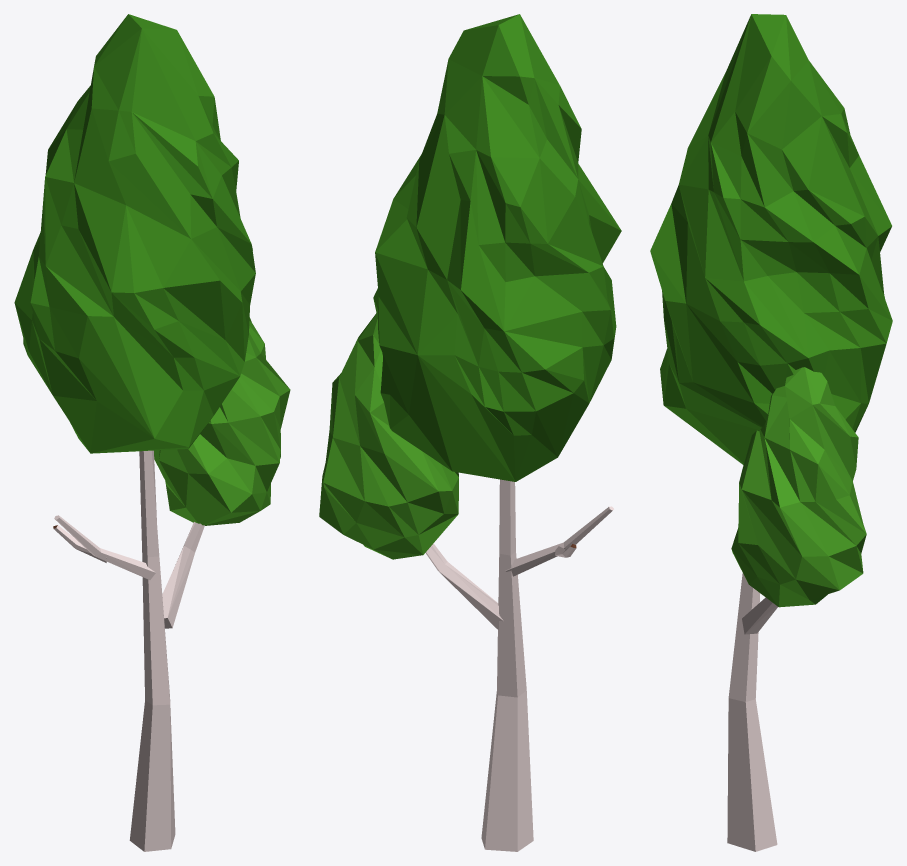
Rendered from Birch_04.FBX.
3 renders of one model, left to right at view 1: azimuth 30°, elevation 25°; view 2: azimuth 150°, elevation 25°; view 3: azimuth 270°, elevation 25°, orthographic.
Visible parts, largest first — view 1: Leaves_00, Leaves_01, Trunk; view 2: Leaves_00, Leaves_01, Trunk; view 3: Leaves_00, Leaves_01, Trunk.
Boxes of the visible parts, box(x1,y1,x2,y2) form: Leaves_00: box(14, 14, 255, 453); Leaves_01: box(154, 317, 290, 525); Trunk: box(53, 450, 204, 851); Leaves_00: box(373, 14, 621, 481); Leaves_01: box(319, 313, 458, 559); Trunk: box(425, 479, 613, 851); Leaves_00: box(650, 14, 892, 464); Leaves_01: box(731, 367, 866, 607); Trunk: box(727, 573, 777, 851).
Size of the model in its own units: 19.14 by 56.51 by 15.13.
